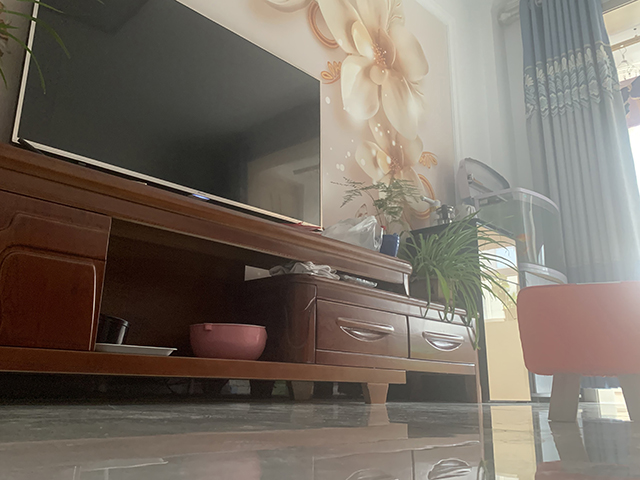cabinet: (1, 139, 483, 405), (406, 217, 532, 404)
stool: (516, 282, 640, 425)
